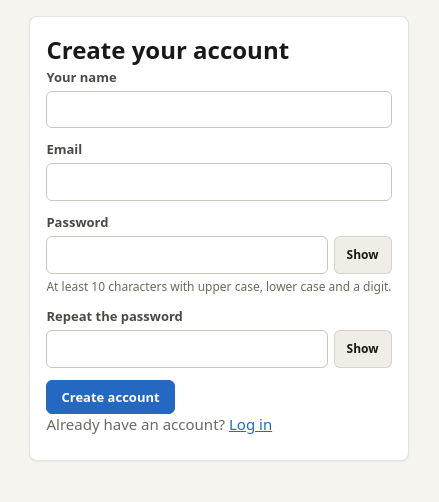
Test: register › does not create the account when the two passwords differ
Type "Asha" into the field labelled "Your name" at (219, 110), box [46,91,392,128]
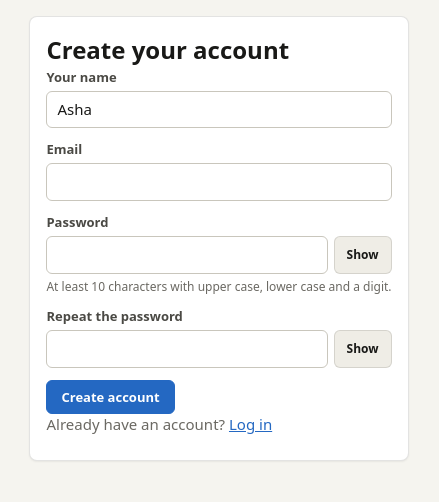
Type "asha@example.com" into the field labelled "Email" at (219, 182), box [46,163,392,201]
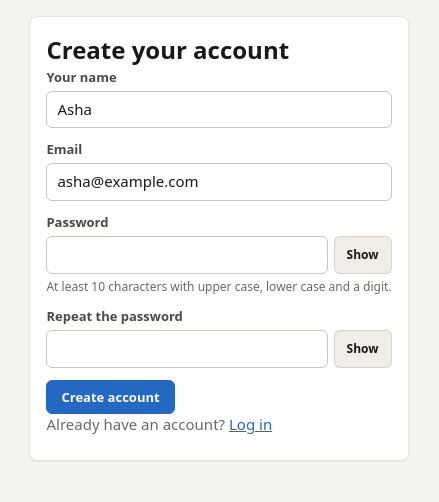
Type "Correct-Horse-42" into the password field labelled "Password" at (187, 255), box [46,236,328,274]
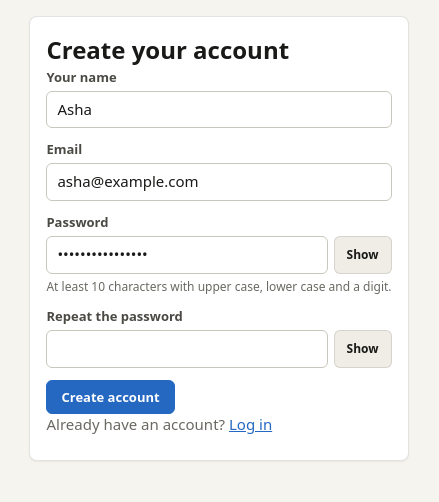
Type "Correct-Hrose-42" into the password field labelled "Repeat the password" at (187, 349), box [46,330,328,368]
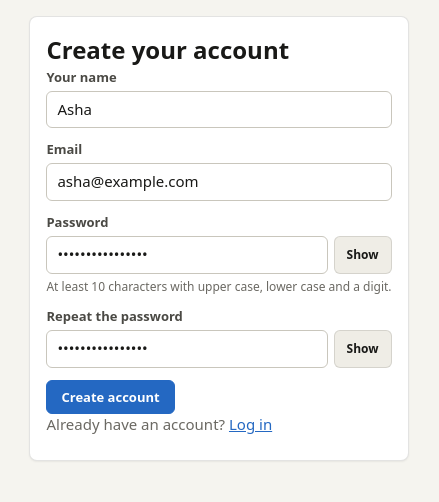
Click the button "Create account" at (111, 397), box [46,380,175,414]
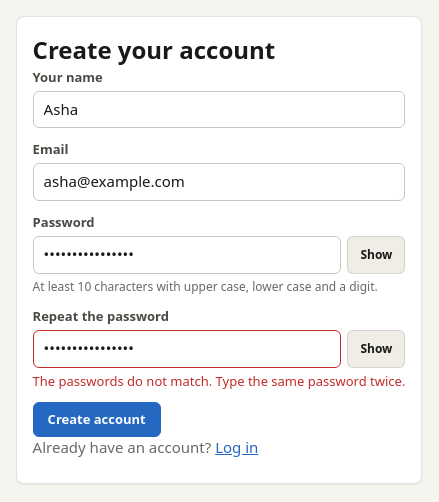
Expected: the text "The passwords do not match. Type the same password twice." is shown, [33,372,405,390]
